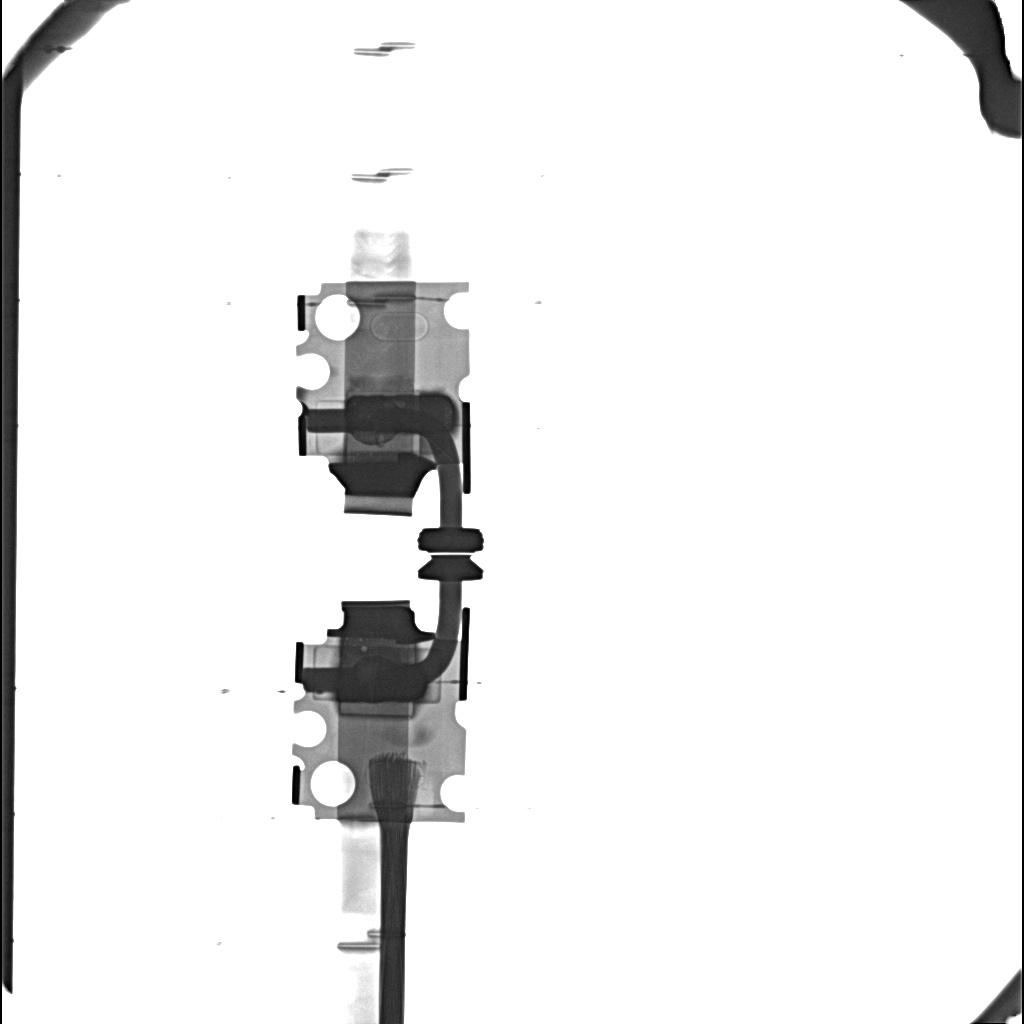defect: (346, 393, 454, 433), (337, 658, 425, 702), (338, 703, 415, 718), (361, 646, 368, 652)
